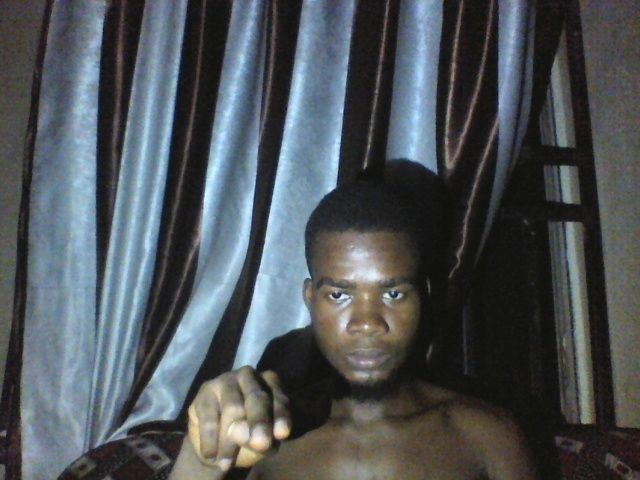no: (174, 360, 305, 479)
